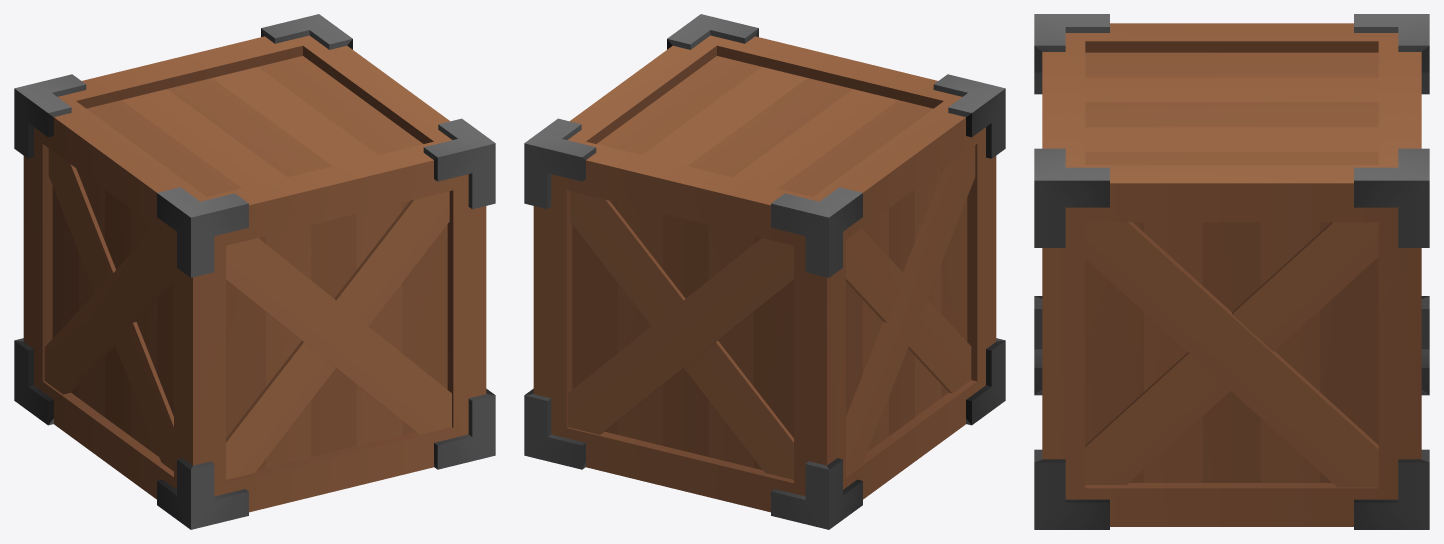
File: RPG_Box_002.FBX
The picture shows the model from 3 angles, left to right: view 1: azimuth 30°, elevation 25°; view 2: azimuth 150°, elevation 25°; view 3: azimuth 270°, elevation 25°; orthographic projection. The views are drawn at different scales.
Visible parts, largest first — view 1: RPG_Box_002; view 2: RPG_Box_002; view 3: RPG_Box_002.
Boxes of the visible parts, x1,y1,x2,y2 form: RPG_Box_002: (14, 14, 495, 529); RPG_Box_002: (524, 14, 1005, 529); RPG_Box_002: (1034, 14, 1429, 529).
Bounding box in the file's own units: 58.18 × 56.99 × 58.4.
1 material, 1 textured.
